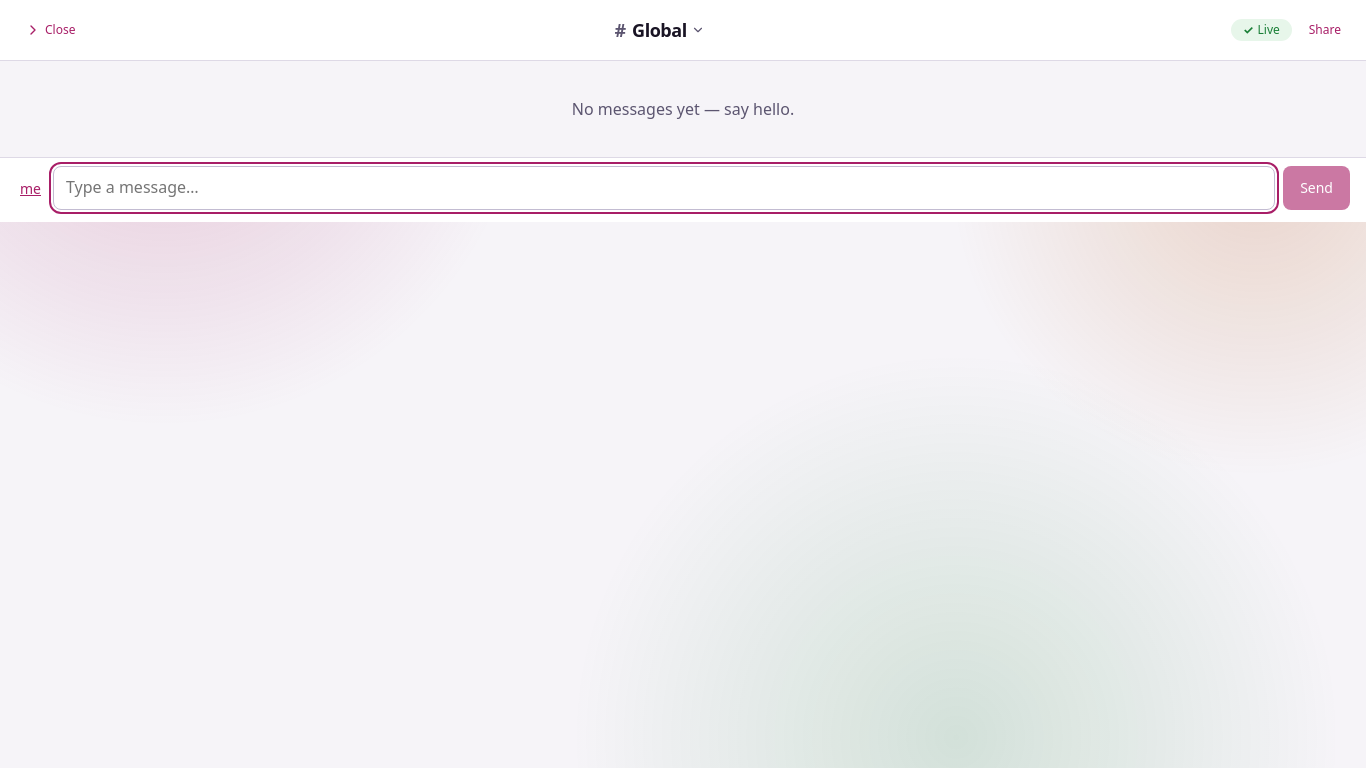
Test: ChatScreen › CHAT-022: the room rail › offers no way to create a room — the set is admin-owned
Click the button "Share": (1325, 30) [1296, 8, 1354, 52]
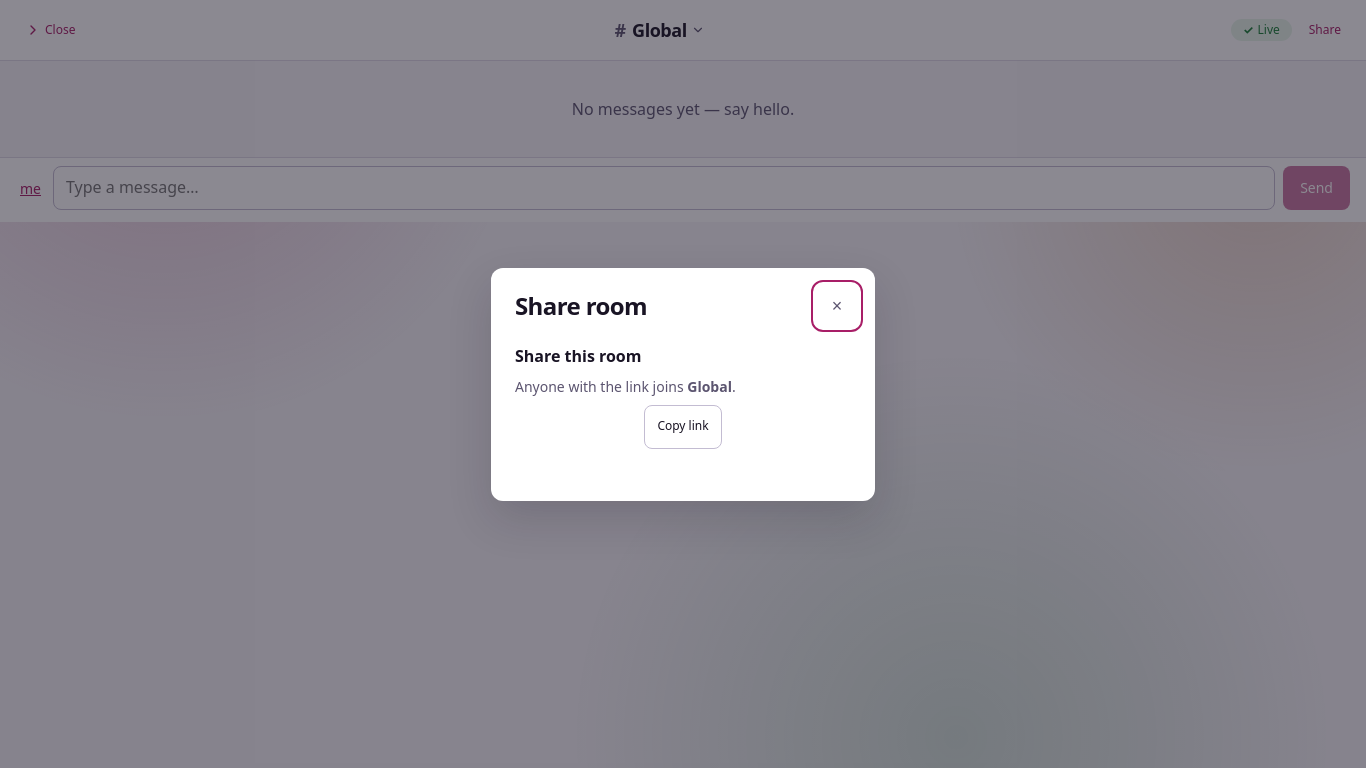
Expected: the dialog "Share room" is shown, [491, 268, 875, 500]
